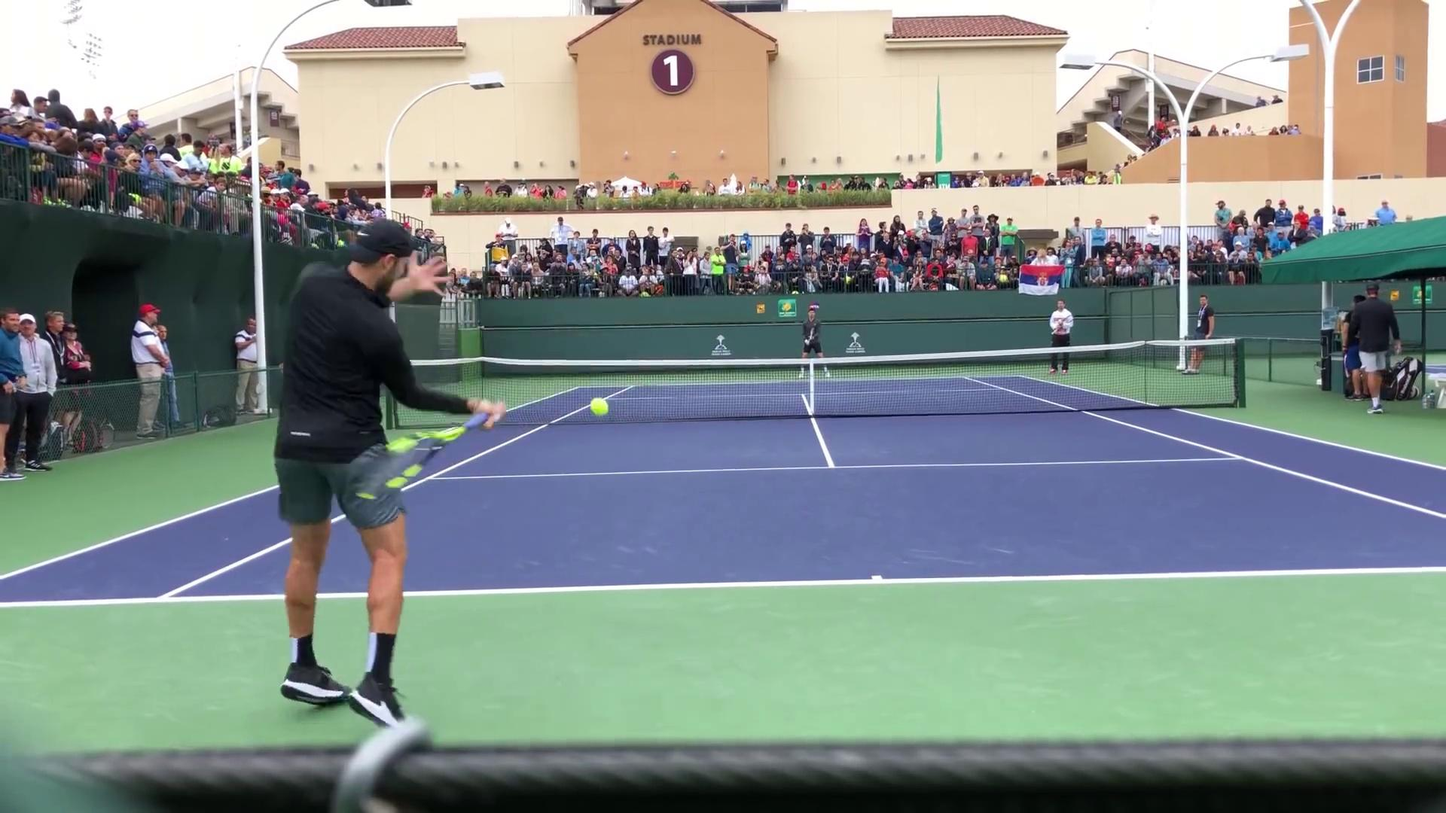ball: (587, 395, 611, 417)
